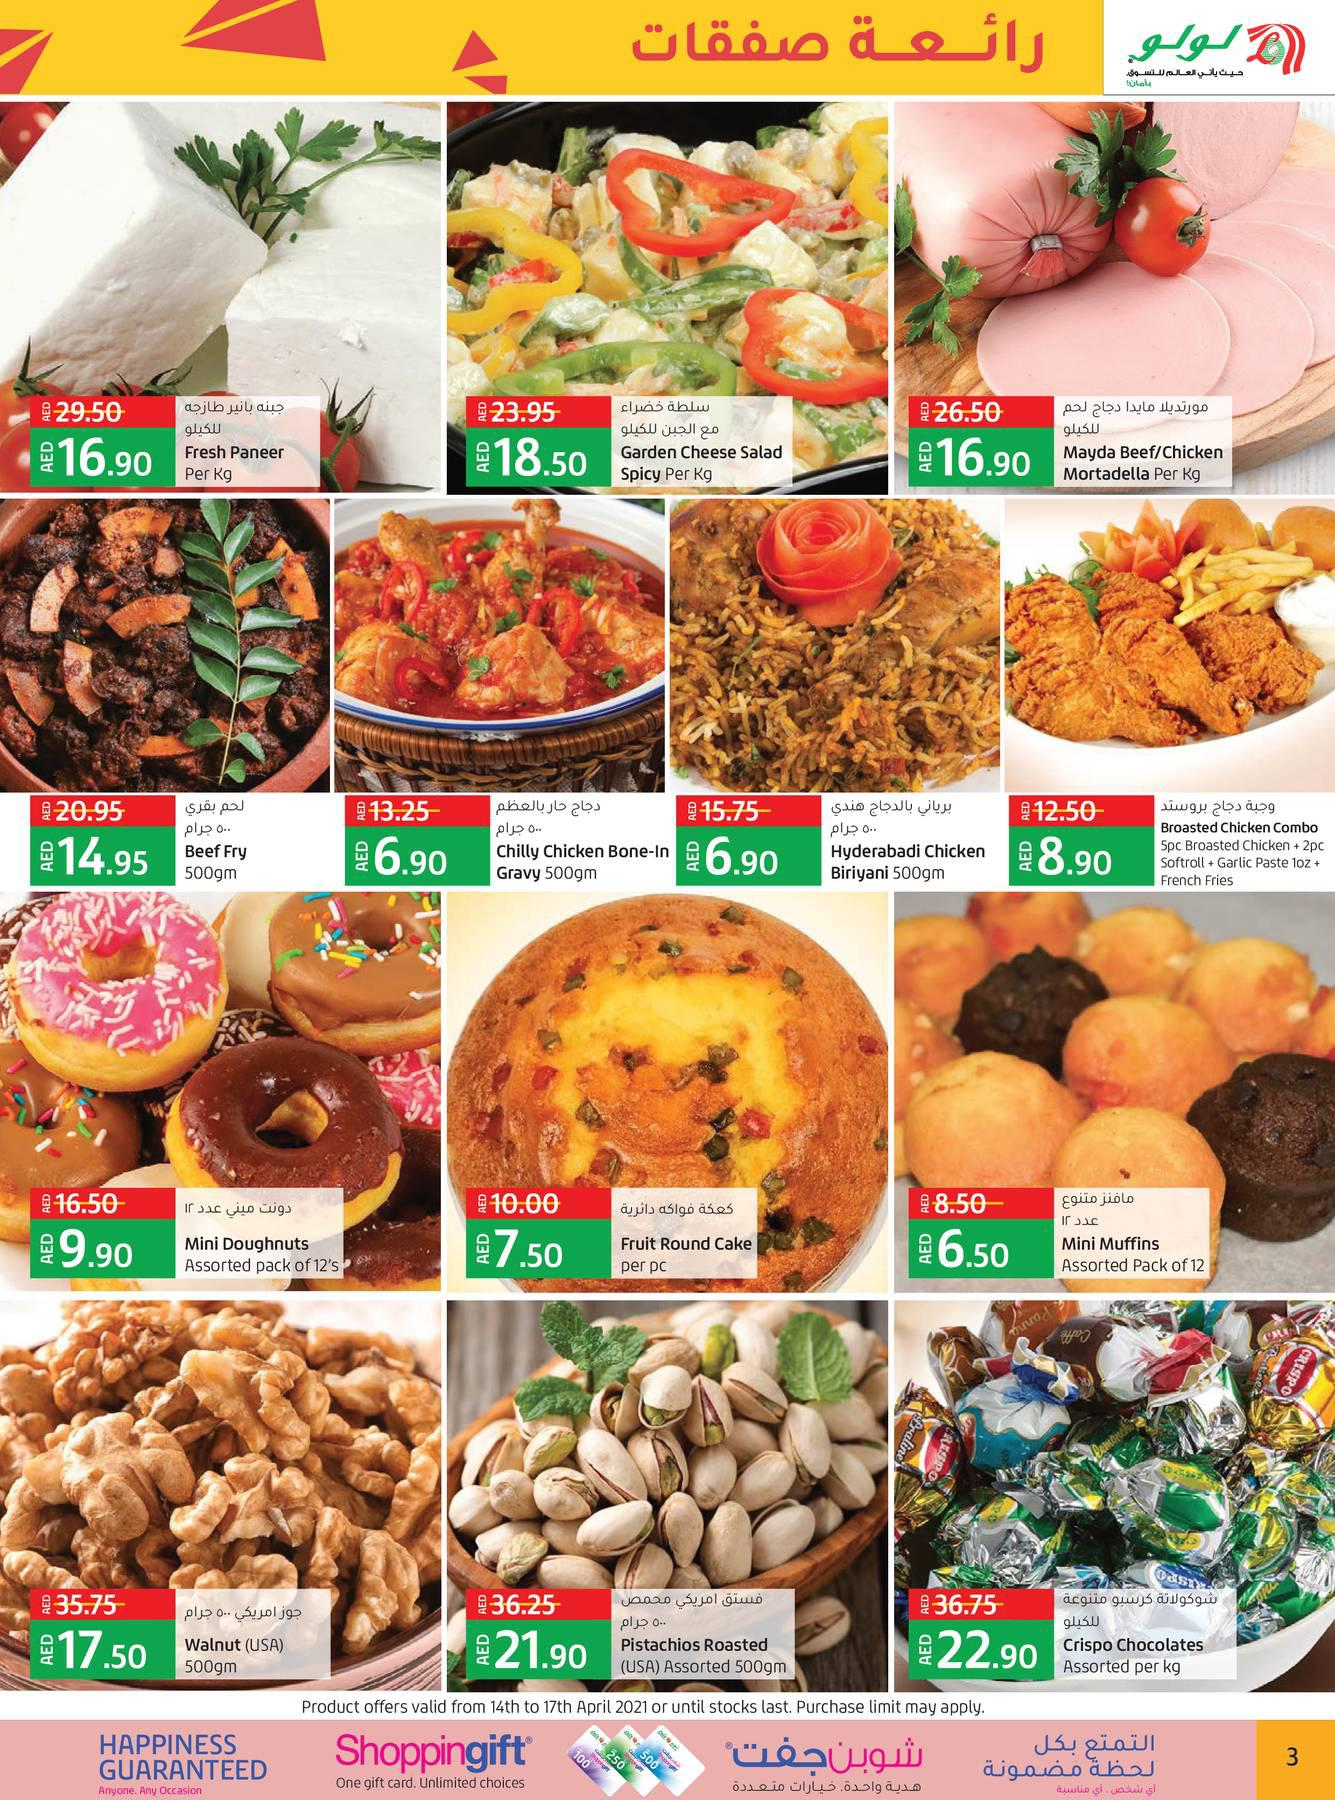text: (823, 795, 1007, 892), (489, 793, 676, 887), (611, 1584, 797, 1678), (1156, 791, 1334, 887), (1055, 1590, 1240, 1681), (611, 397, 794, 486), (177, 795, 342, 887), (1056, 400, 1233, 485), (178, 1192, 344, 1279), (1055, 1187, 1209, 1279), (175, 1588, 330, 1679), (611, 1186, 759, 1279), (175, 400, 318, 486)
